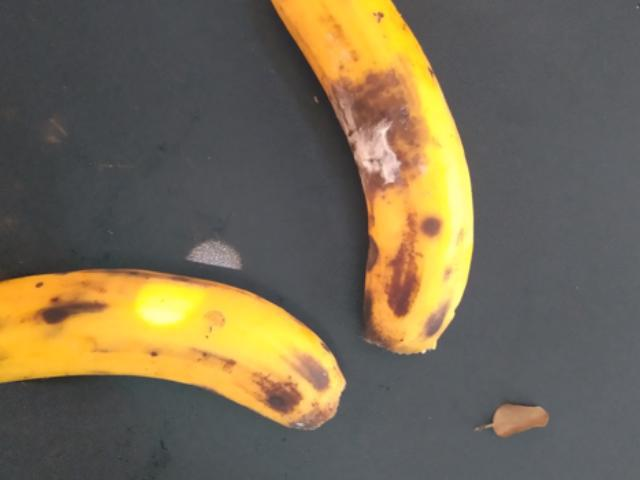overripe: (0, 202, 353, 437), (263, 0, 482, 345)
